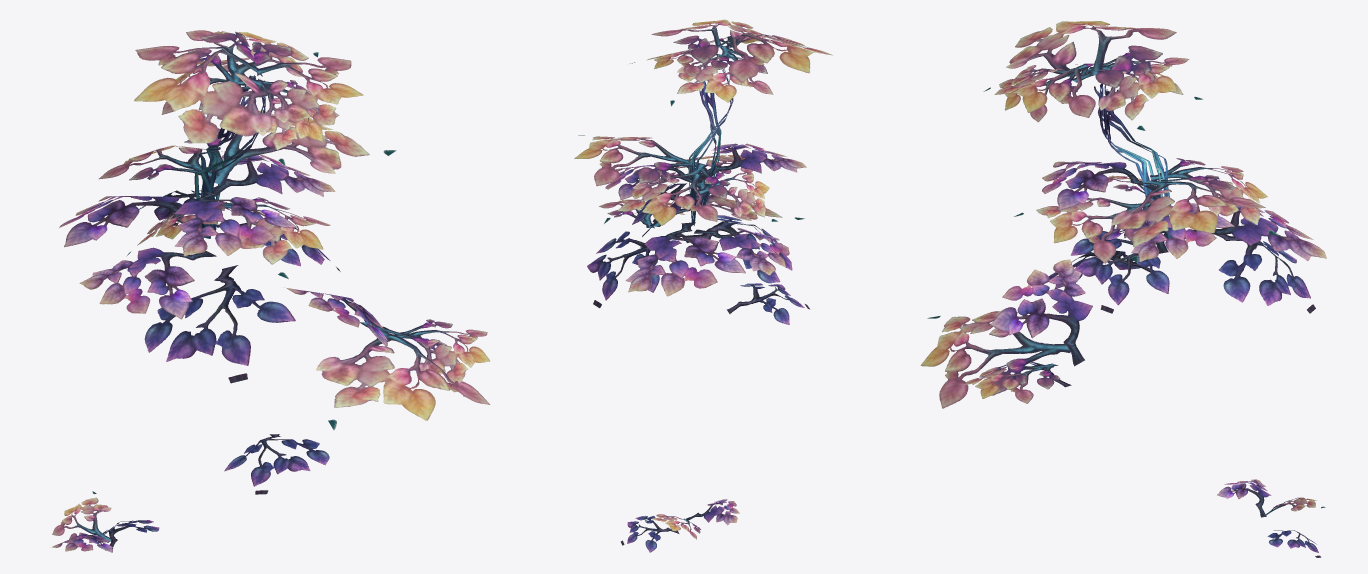
File: Yland2_sy_06 Yland2.FBX
3 renders of one model, left to right at view 1: azimuth 30°, elevation 25°; view 2: azimuth 150°, elevation 25°; view 3: azimuth 270°, elevation 25°, orthographic. The views are drawn at different scales.
Parts seen in each view (by area): view 1: Yland2_sy_06 Yland2; view 2: Yland2_sy_06 Yland2; view 3: Yland2_sy_06 Yland2.
Boxes of the visible parts, box(x1,y1,x2,y2) form: Yland2_sy_06 Yland2: box(52, 30, 489, 552); Yland2_sy_06 Yland2: box(574, 19, 832, 552); Yland2_sy_06 Yland2: box(920, 21, 1326, 557).
Bounding box in the file's own units: 11.79 × 17.59 × 14.18.
